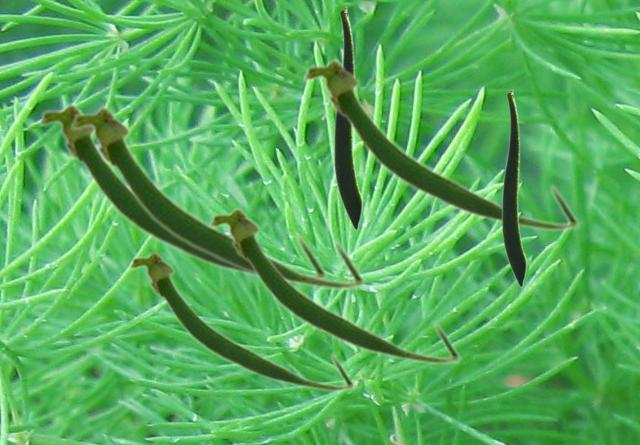french_bean: (68, 103, 366, 291), (36, 100, 328, 280), (301, 56, 580, 232), (207, 205, 461, 365), (127, 249, 355, 392), (333, 6, 362, 230), (501, 89, 526, 287)
